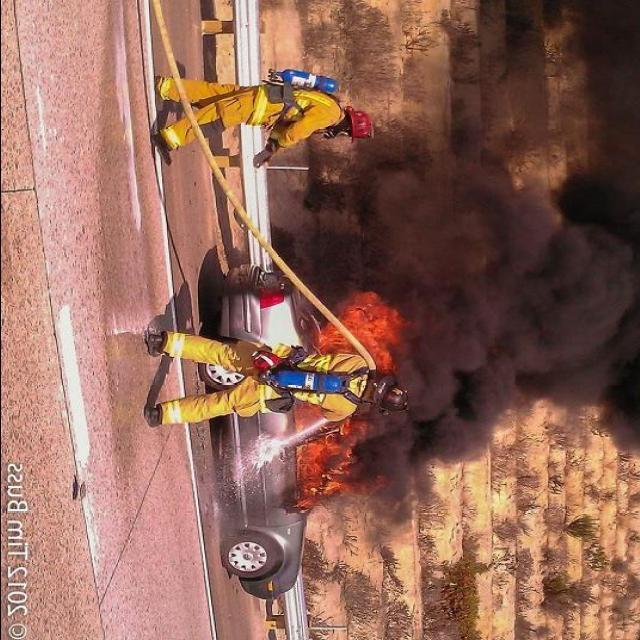Fire: (283, 288, 411, 522)
